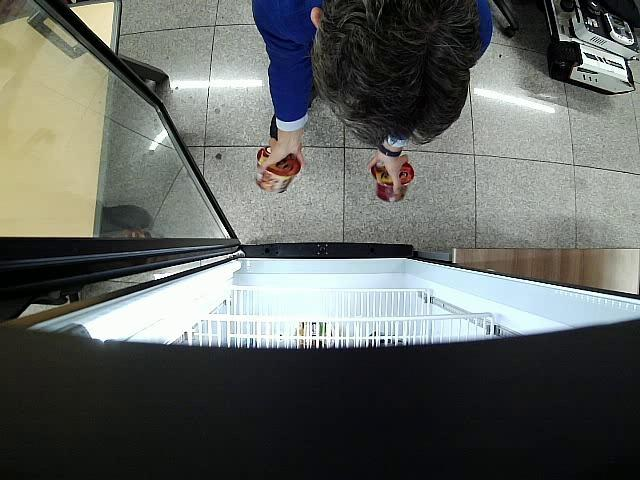05_nuguri_L: (255, 146, 300, 193), (371, 162, 415, 202)
